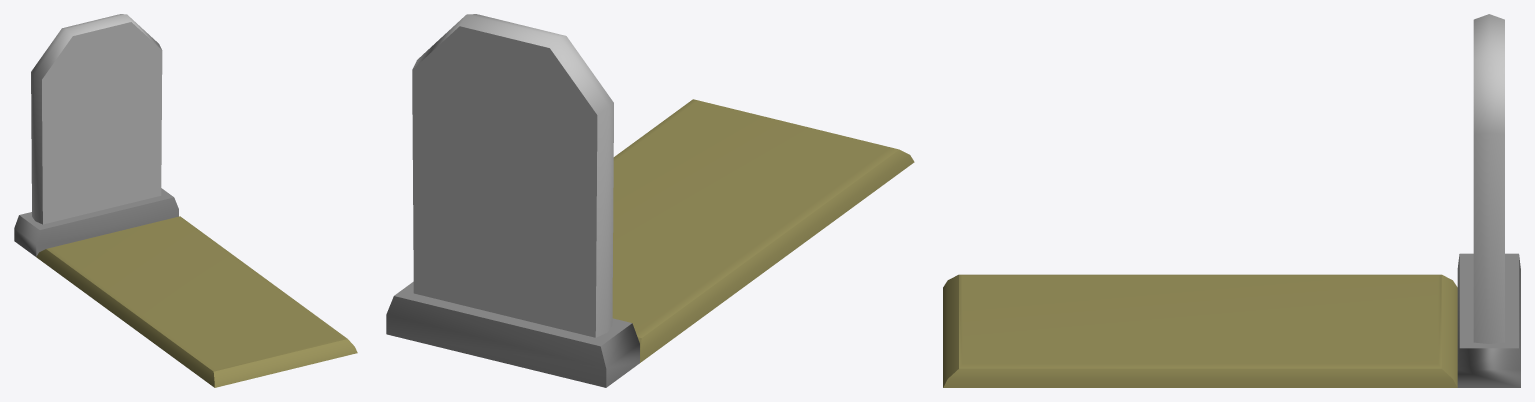
Rendered from Prop_TombstoneDirt_01.fbx.
3 renders of one model, left to right at view 1: azimuth 30°, elevation 25°; view 2: azimuth 150°, elevation 25°; view 3: azimuth 270°, elevation 25°, orthographic. The views are drawn at different scales.
Parts seen in each view (by area): view 1: Tombstone, GraveDirt; view 2: Tombstone, GraveDirt; view 3: GraveDirt, Tombstone.
Boxes of the visible parts, x1,y1,x2,y2 form: Tombstone: (14, 14, 178, 256); GraveDirt: (36, 216, 357, 387); Tombstone: (386, 14, 639, 387); GraveDirt: (612, 99, 914, 362); GraveDirt: (943, 274, 1457, 387); Tombstone: (1457, 14, 1520, 387).
Size of the model in its own units: 1.78 by 2.5 by 4.32.
